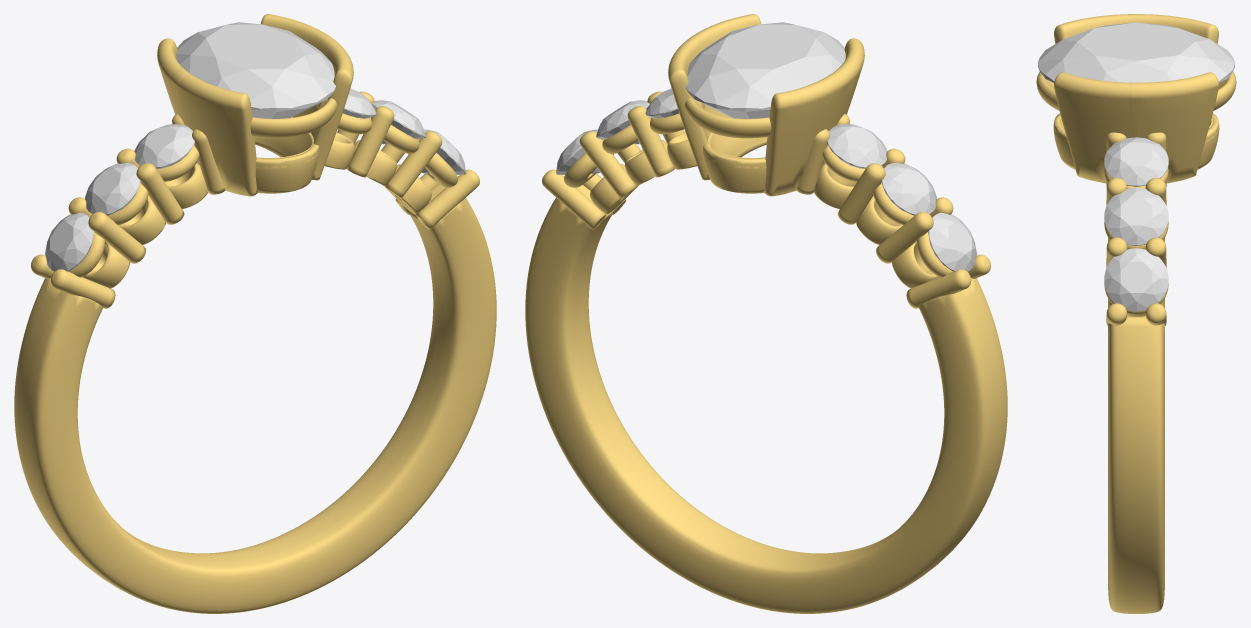
The model's file is diamond-oval-yellowgold-halfmoonbezel-straightband-7stone.glb.
The picture shows the model from 3 angles, left to right: view 1: azimuth 30°, elevation 25°; view 2: azimuth 150°, elevation 25°; view 3: azimuth 270°, elevation 25°; orthographic projection.
Visible parts, largest first — view 1: metal, stone.003, side.006, side.007, side.008, side.010, side.011, side.009; view 2: metal, stone.003, side.006, side.007, side.008, side.010, side.011, side.009; view 3: metal, stone.003, side.009, side.010, side.011.
Part boxes in pixels (box(x1,y1,x2,y2)): metal: box(14, 14, 496, 613); stone.003: box(176, 22, 335, 118); side.006: box(45, 212, 93, 271); side.007: box(85, 163, 140, 215); side.008: box(134, 124, 194, 168); side.010: box(372, 100, 425, 144); side.011: box(343, 88, 376, 118); side.009: box(421, 129, 465, 174); metal: box(525, 14, 1007, 613); stone.003: box(686, 22, 845, 118); side.006: box(928, 212, 976, 271); side.007: box(881, 163, 936, 215); side.008: box(827, 124, 887, 168); side.010: box(596, 100, 649, 144); side.011: box(645, 88, 678, 118); side.009: box(556, 129, 600, 174); metal: box(1036, 14, 1236, 613); stone.003: box(1038, 22, 1234, 83); side.009: box(1104, 248, 1168, 311); side.010: box(1104, 187, 1168, 245); side.011: box(1104, 137, 1168, 186).
Size of the model in its own units: 20.49 by 23.41 by 7.75.
